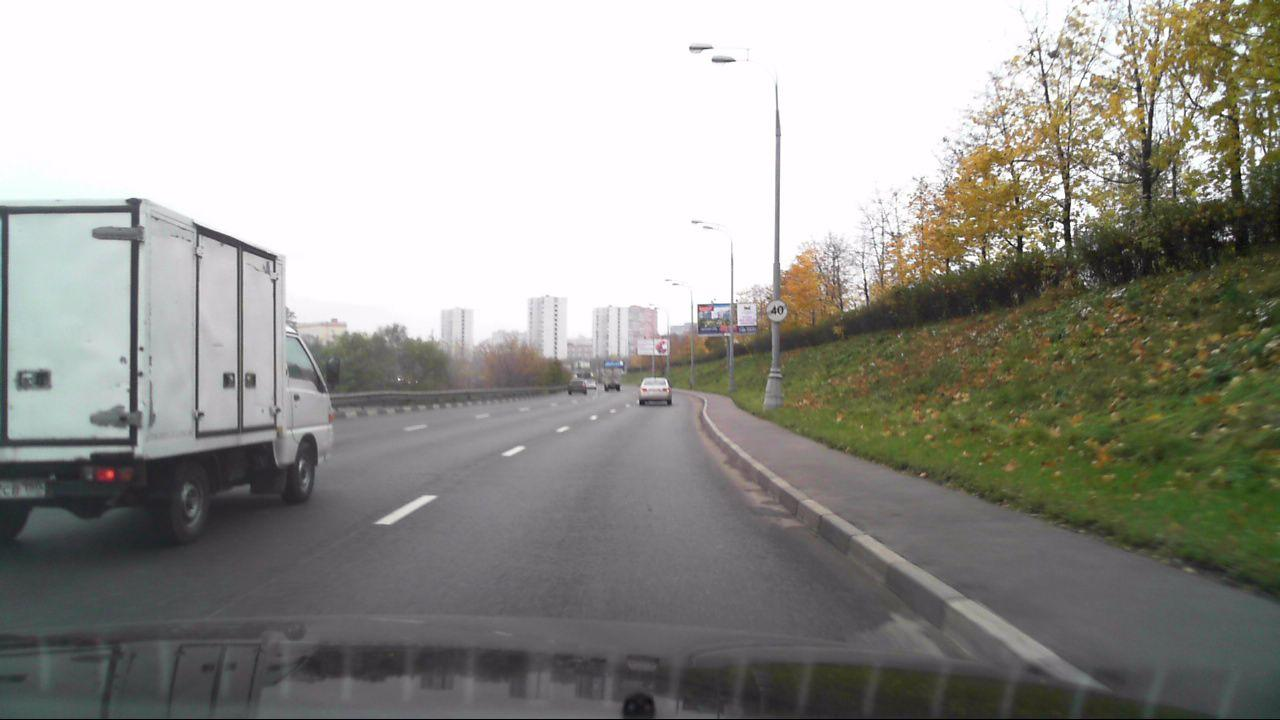3_25: (765, 300, 790, 322)
